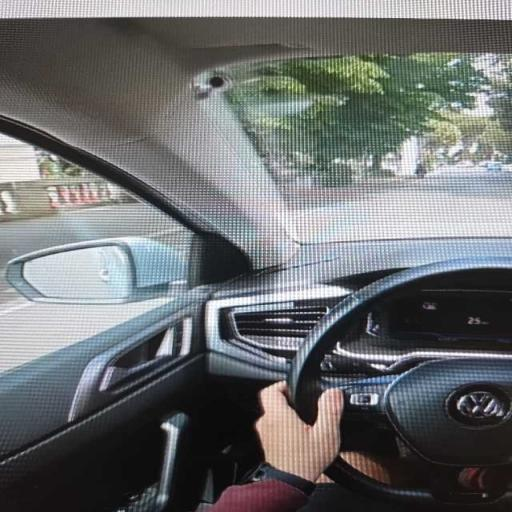car: (0, 2, 511, 511)
lane: (292, 172, 511, 242)
person: (210, 382, 343, 511), (414, 162, 426, 178)
